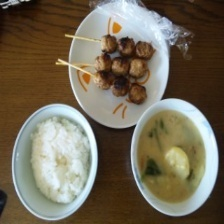rice: (30, 115, 90, 204)
